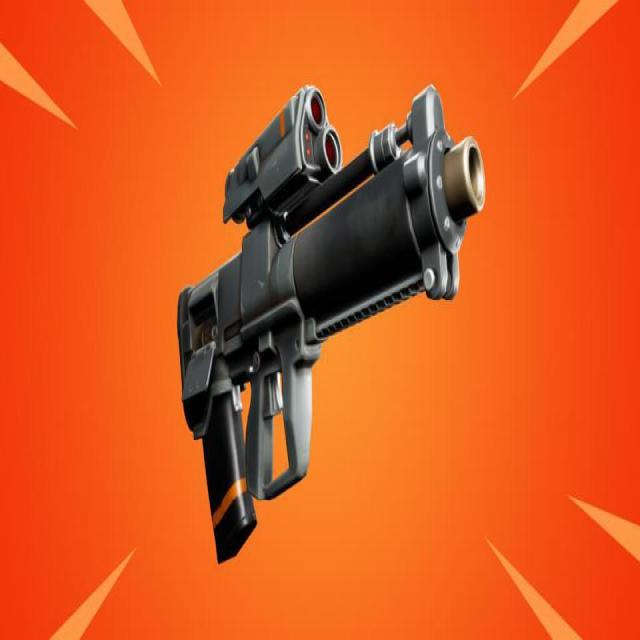weapon: (162, 49, 493, 575)
